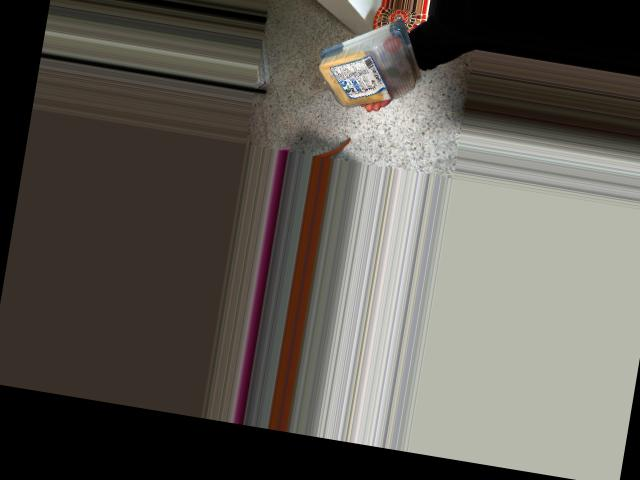cheese: (305, 0, 434, 127)
